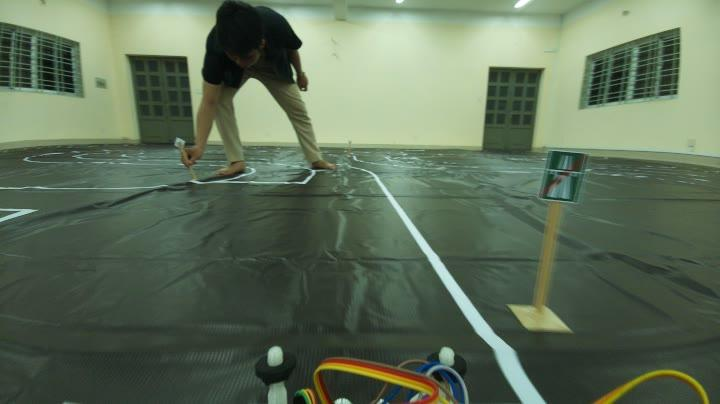highway_exit: (535, 146, 588, 210)
